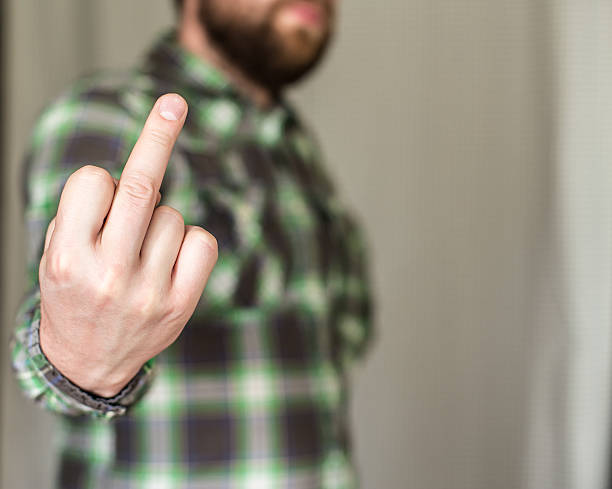insulting_gesture: (35, 92, 218, 384)
